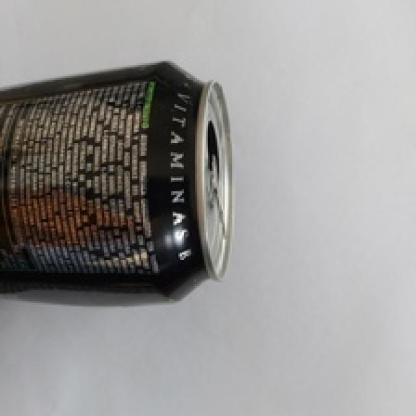Can: (0, 62, 237, 305)
